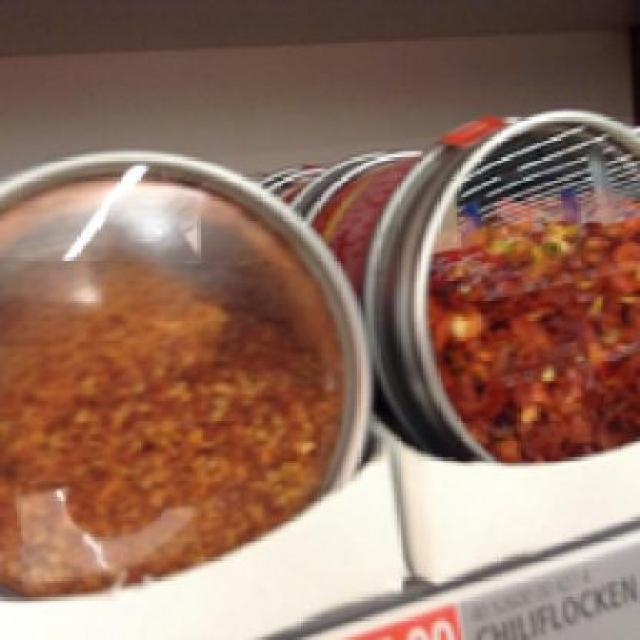Spices: (0, 146, 366, 600), (368, 108, 638, 464)
